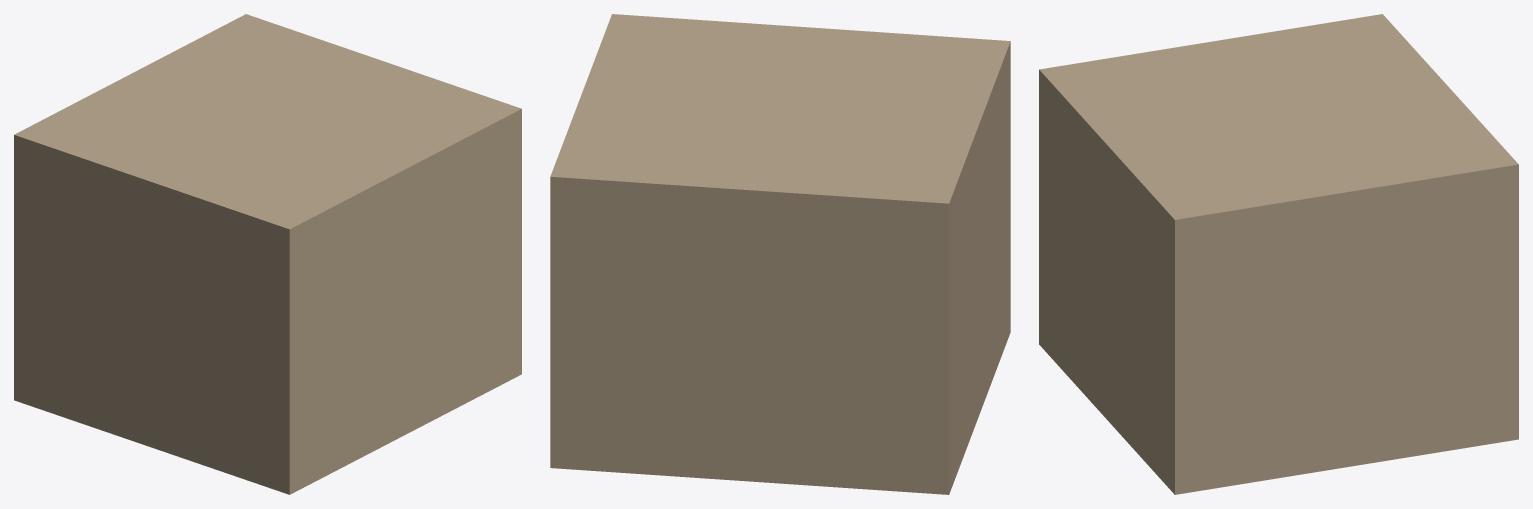
The model's file is bld_106796878.dae.
The picture shows the model from 3 angles, left to right: view 1: azimuth 30°, elevation 25°; view 2: azimuth 150°, elevation 25°; view 3: azimuth 270°, elevation 25°; orthographic projection. The views are drawn at different scales.
Visible parts, largest first — view 1: bld_106796878; view 2: bld_106796878; view 3: bld_106796878.
Boxes of the visible parts, x1,y1,x2,y2 form: bld_106796878: (14,14,521,494); bld_106796878: (550,14,1010,494); bld_106796878: (1039,14,1518,494).
Size of the model in its own units: 12.85 by 12.65 by 8.
